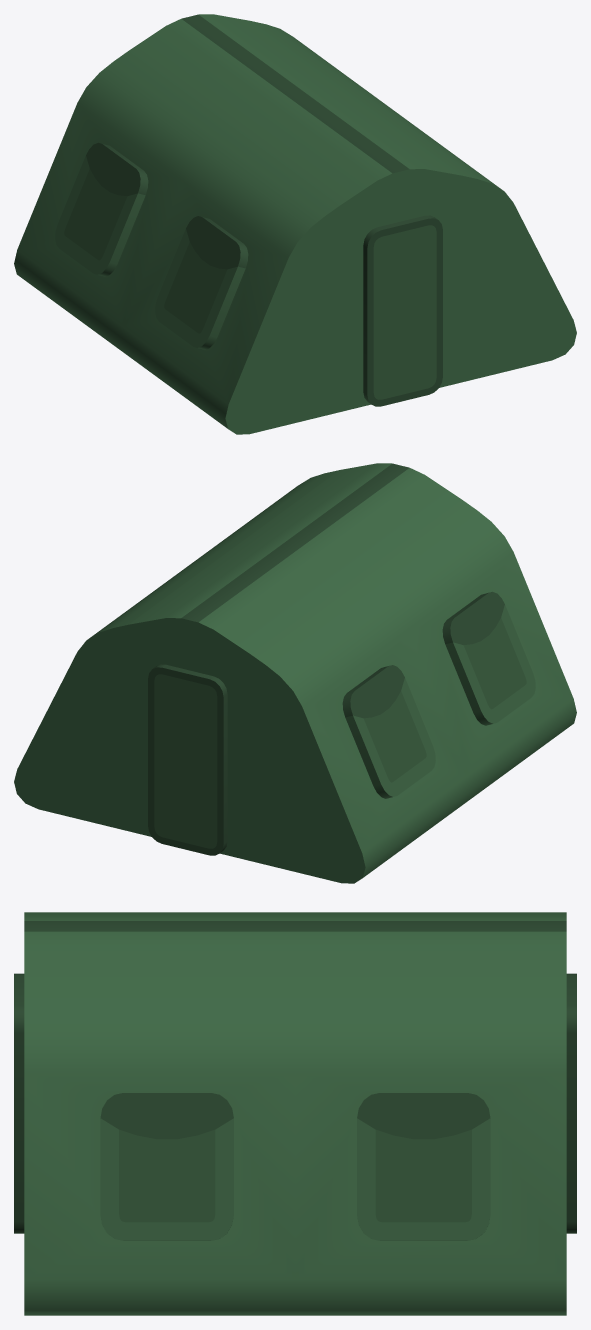
The model's file is Tent.fbx.
The picture shows the model from 3 angles, top to bottom: view 1: azimuth 30°, elevation 25°; view 2: azimuth 150°, elevation 25°; view 3: azimuth 270°, elevation 25°; orthographic projection. The views are drawn at different scales.
Visible parts, largest first — view 1: Tent; view 2: Tent; view 3: Tent.
Boxes of the visible parts, x1,y1,x2,y2 form: Tent: [14, 14, 576, 434]; Tent: [14, 463, 576, 883]; Tent: [14, 912, 576, 1315].
Bounding box in the file's own units: 3.76 × 2.31 × 4.06.
